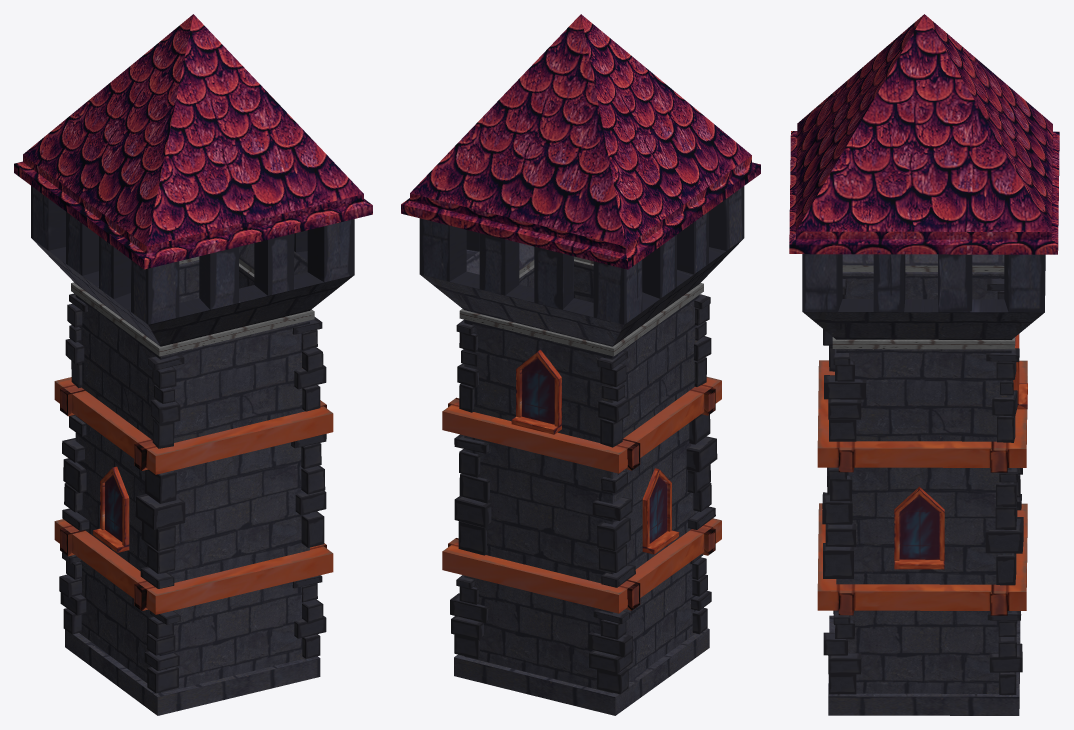
The model's file is tower.fbx.
The picture shows the model from 3 angles, left to right: view 1: azimuth 30°, elevation 25°; view 2: azimuth 150°, elevation 25°; view 3: azimuth 270°, elevation 25°; orthographic projection. The views are drawn at different scales.
Parts seen in each view (by area): view 1: tower; view 2: tower; view 3: tower.
Boxes of the visible parts, <box> form: tower: <box>14,14,372,715</box>; tower: <box>401,14,760,715</box>; tower: <box>789,14,1059,715</box>.
Bounding box in the file's own units: 1.93 × 5.21 × 1.93.
